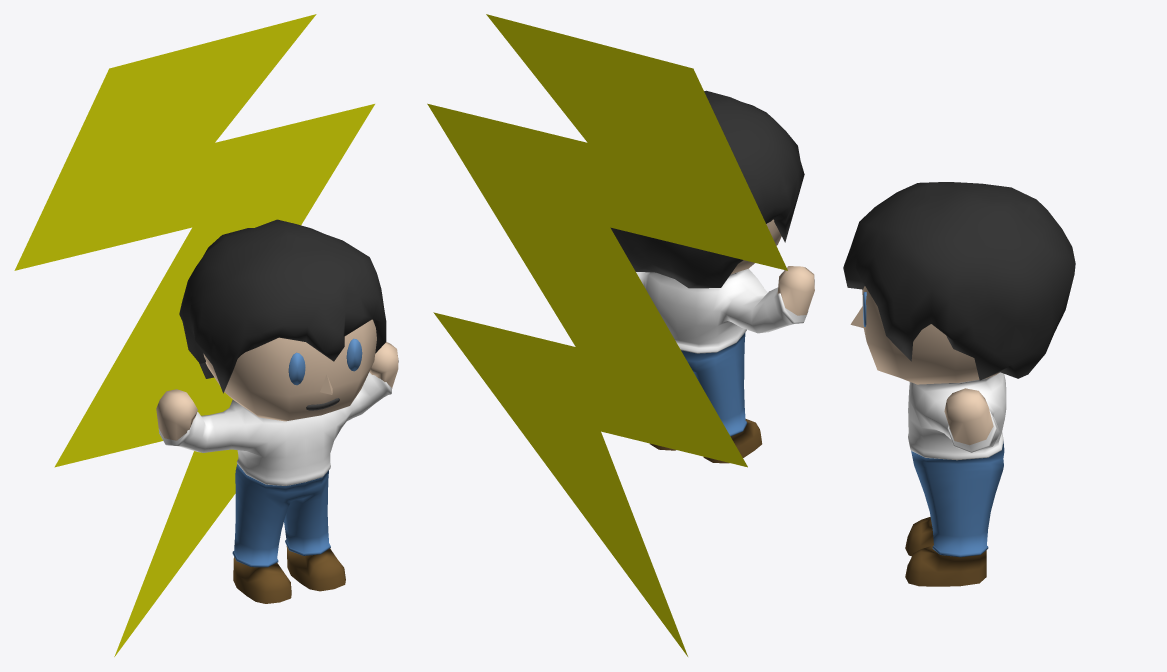
Rendered from PowerUpInvencible 1.fbx.
The picture shows the model from 3 angles, left to right: view 1: azimuth 30°, elevation 25°; view 2: azimuth 150°, elevation 25°; view 3: azimuth 270°, elevation 25°; orthographic projection. The views are drawn at different scales.
Parts seen in each view (by area): view 1: Cube.004, CharType1, hairbase, Eyes; view 2: Cube.004, CharType1, hairbase; view 3: hairbase, CharType1.
Part boxes in pixels (x1=…): Cube.004: x1=14, y1=14, x2=374, y2=656; CharType1: x1=156, y1=319, x2=398, y2=603; hairbase: x1=179, y1=219, x2=386, y2=393; Eyes: x1=288, y1=338, x2=362, y2=385; Cube.004: x1=427, y1=14, x2=787, y2=656; CharType1: x1=636, y1=219, x2=814, y2=463; hairbase: x1=610, y1=90, x2=804, y2=288; hairbase: x1=843, y1=182, x2=1075, y2=380; CharType1: x1=862, y1=286, x2=1006, y2=586.
Size of the model in its own units: 112 by 176 by 76.28.
